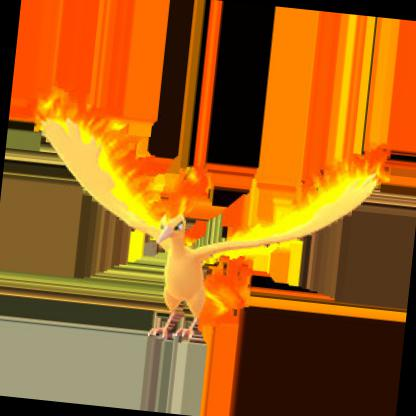Moltres: (1, 71, 416, 416)
